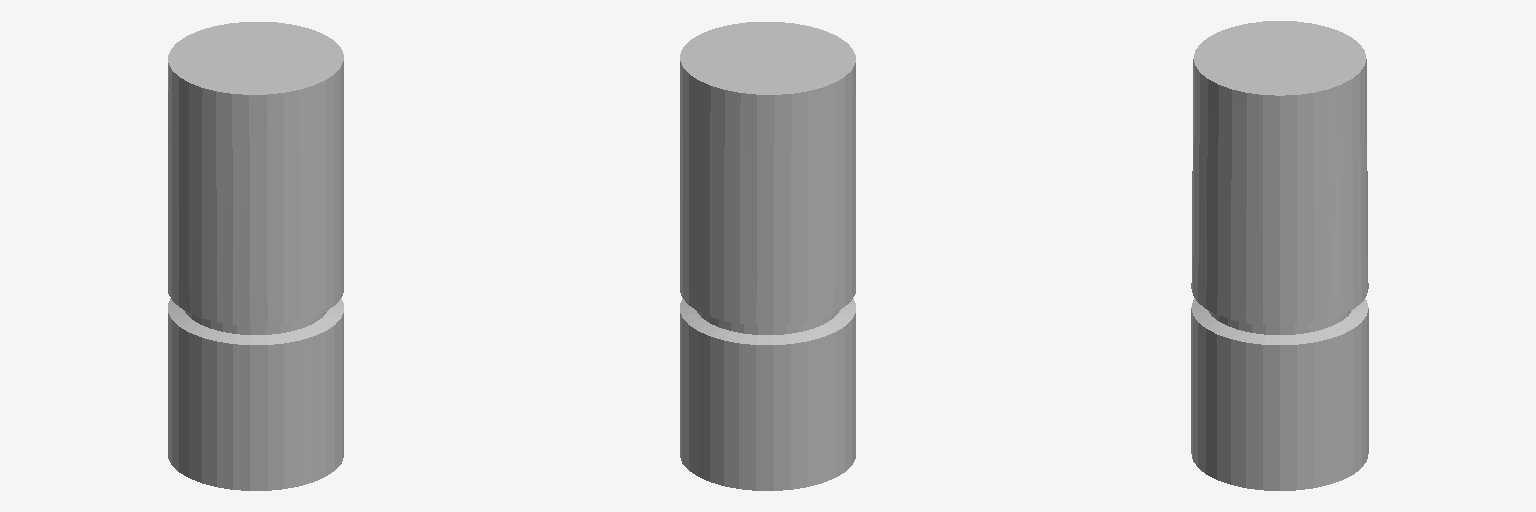
Rendered from Light_Round_Tall_Solid.obj.
3 views of the same model, side by side, from view 1: azimuth 30°, elevation 25°; view 2: azimuth 150°, elevation 25°; view 3: azimuth 270°, elevation 25° (orthographic).
Parts seen in each view (by area): view 1: Light_Round_Tall_Solid; view 2: Light_Round_Tall_Solid; view 3: Light_Round_Tall_Solid.
Part boxes in pixels (bbox=[...]): Light_Round_Tall_Solid: bbox=[168, 22, 343, 490]; Light_Round_Tall_Solid: bbox=[680, 22, 855, 490]; Light_Round_Tall_Solid: bbox=[1191, 21, 1368, 490].
Size of the model in its own units: 0.65 by 1.6 by 0.65.